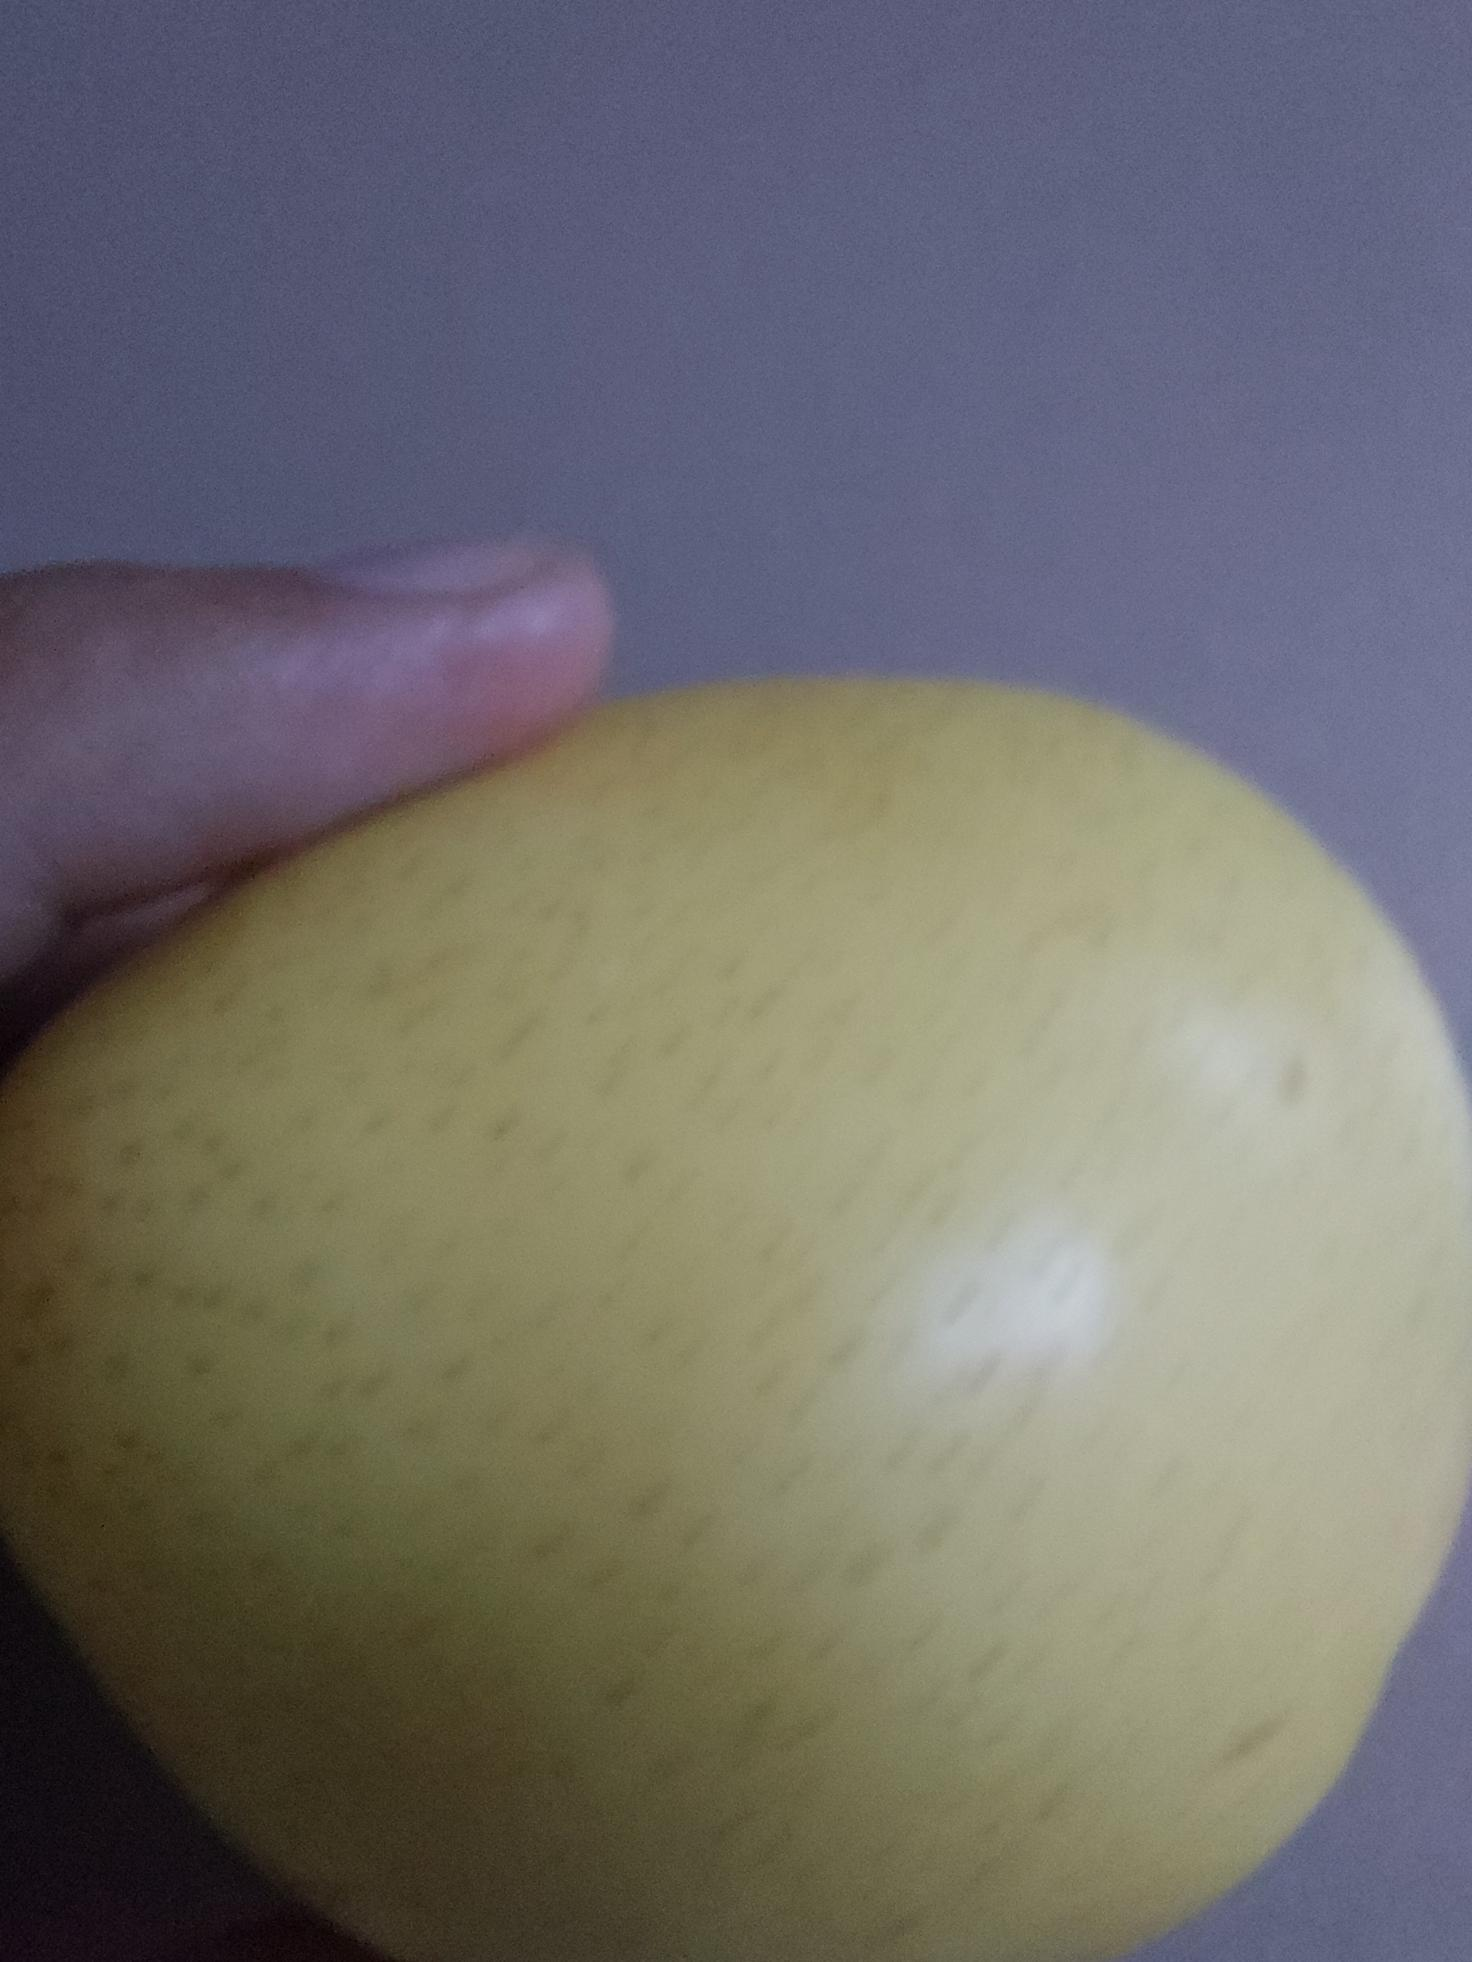Good Pear: (0, 674, 1472, 1962)
